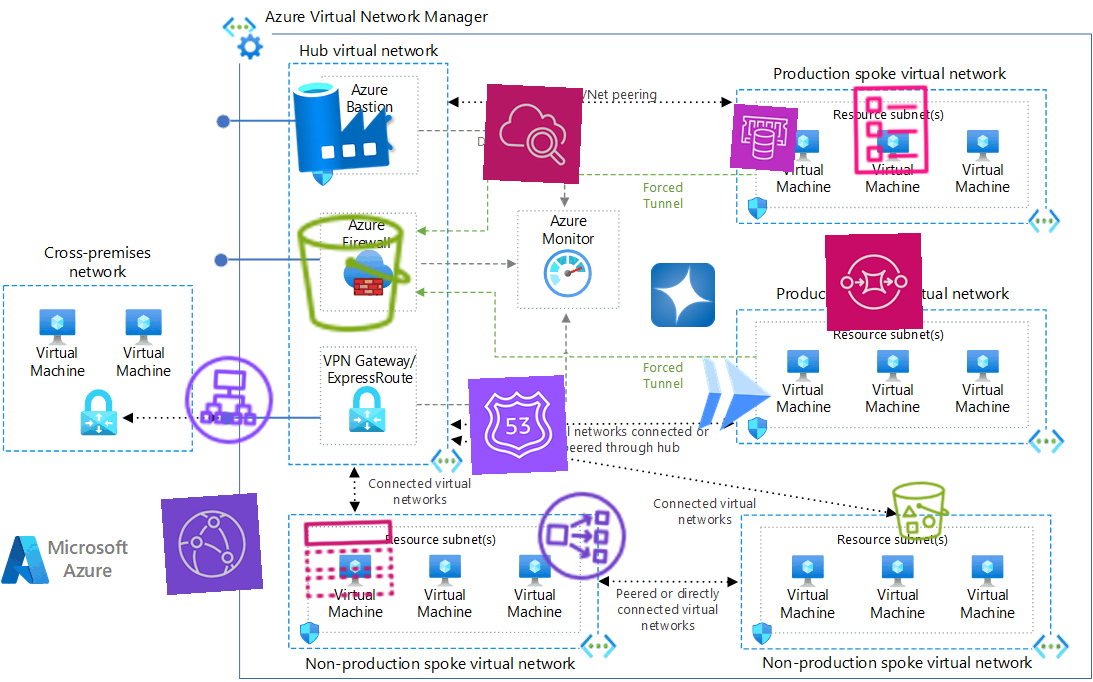aws_amazon_cloudfront: (160, 492, 264, 596)
aws_amazon_cloudwatch: (482, 83, 584, 185)
aws_amazon_elasticache: (729, 103, 799, 173)
aws_amazon_route_53: (468, 375, 568, 475)
aws_amazon_simple_queue_service: (825, 233, 923, 331)
aws_cloudformation_template: (841, 81, 939, 179)
aws_elastic_load_balancing_application_load_balancer: (178, 349, 280, 451)
aws_elastic_load_balancing_network_load_balancer: (531, 485, 633, 587)
aws_simple_notification_service_topic: (299, 509, 399, 609)
aws_simple_storage_service_bucket: (288, 207, 420, 339)
aws_simple_storage_service_bucket_with_objects: (887, 477, 955, 545)
azure_data_factories: (289, 72, 393, 176)
azure_openai: (650, 262, 716, 328)
gcp_cloud_run: (683, 343, 785, 445)
